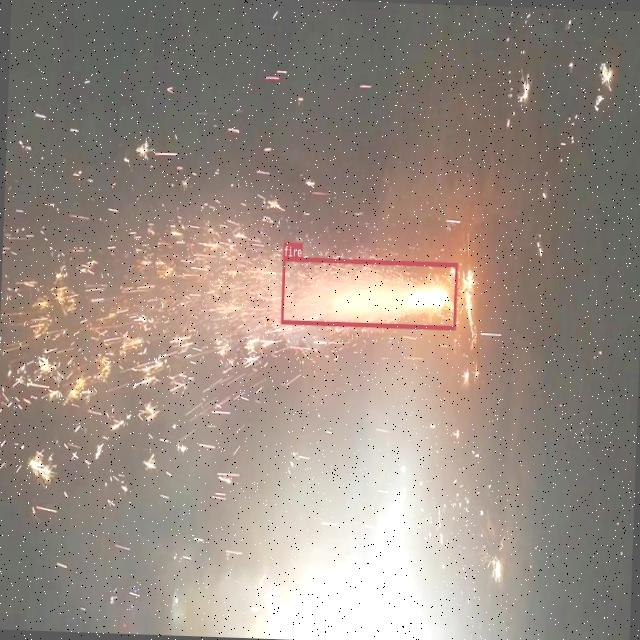fire: (280, 256, 457, 329)
